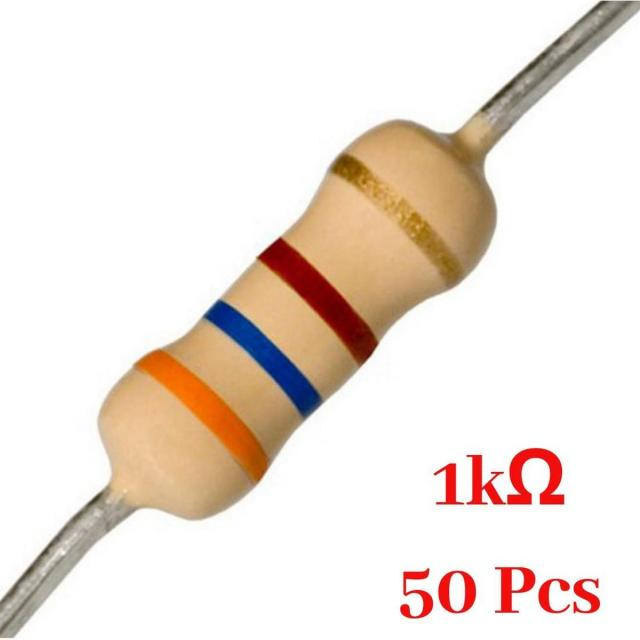Resistor: (98, 111, 499, 518)
blue: (203, 299, 325, 421)
gold: (329, 153, 465, 289)
orange: (133, 349, 273, 485)
red: (260, 237, 379, 369)
